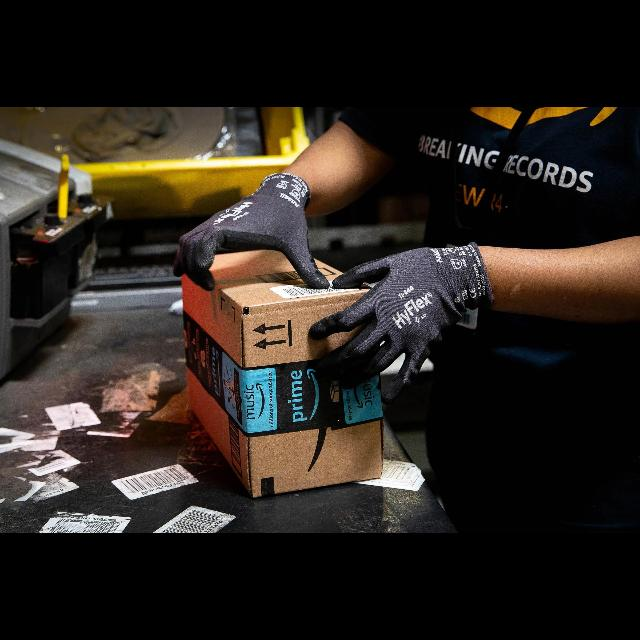box: (182, 250, 388, 498)
